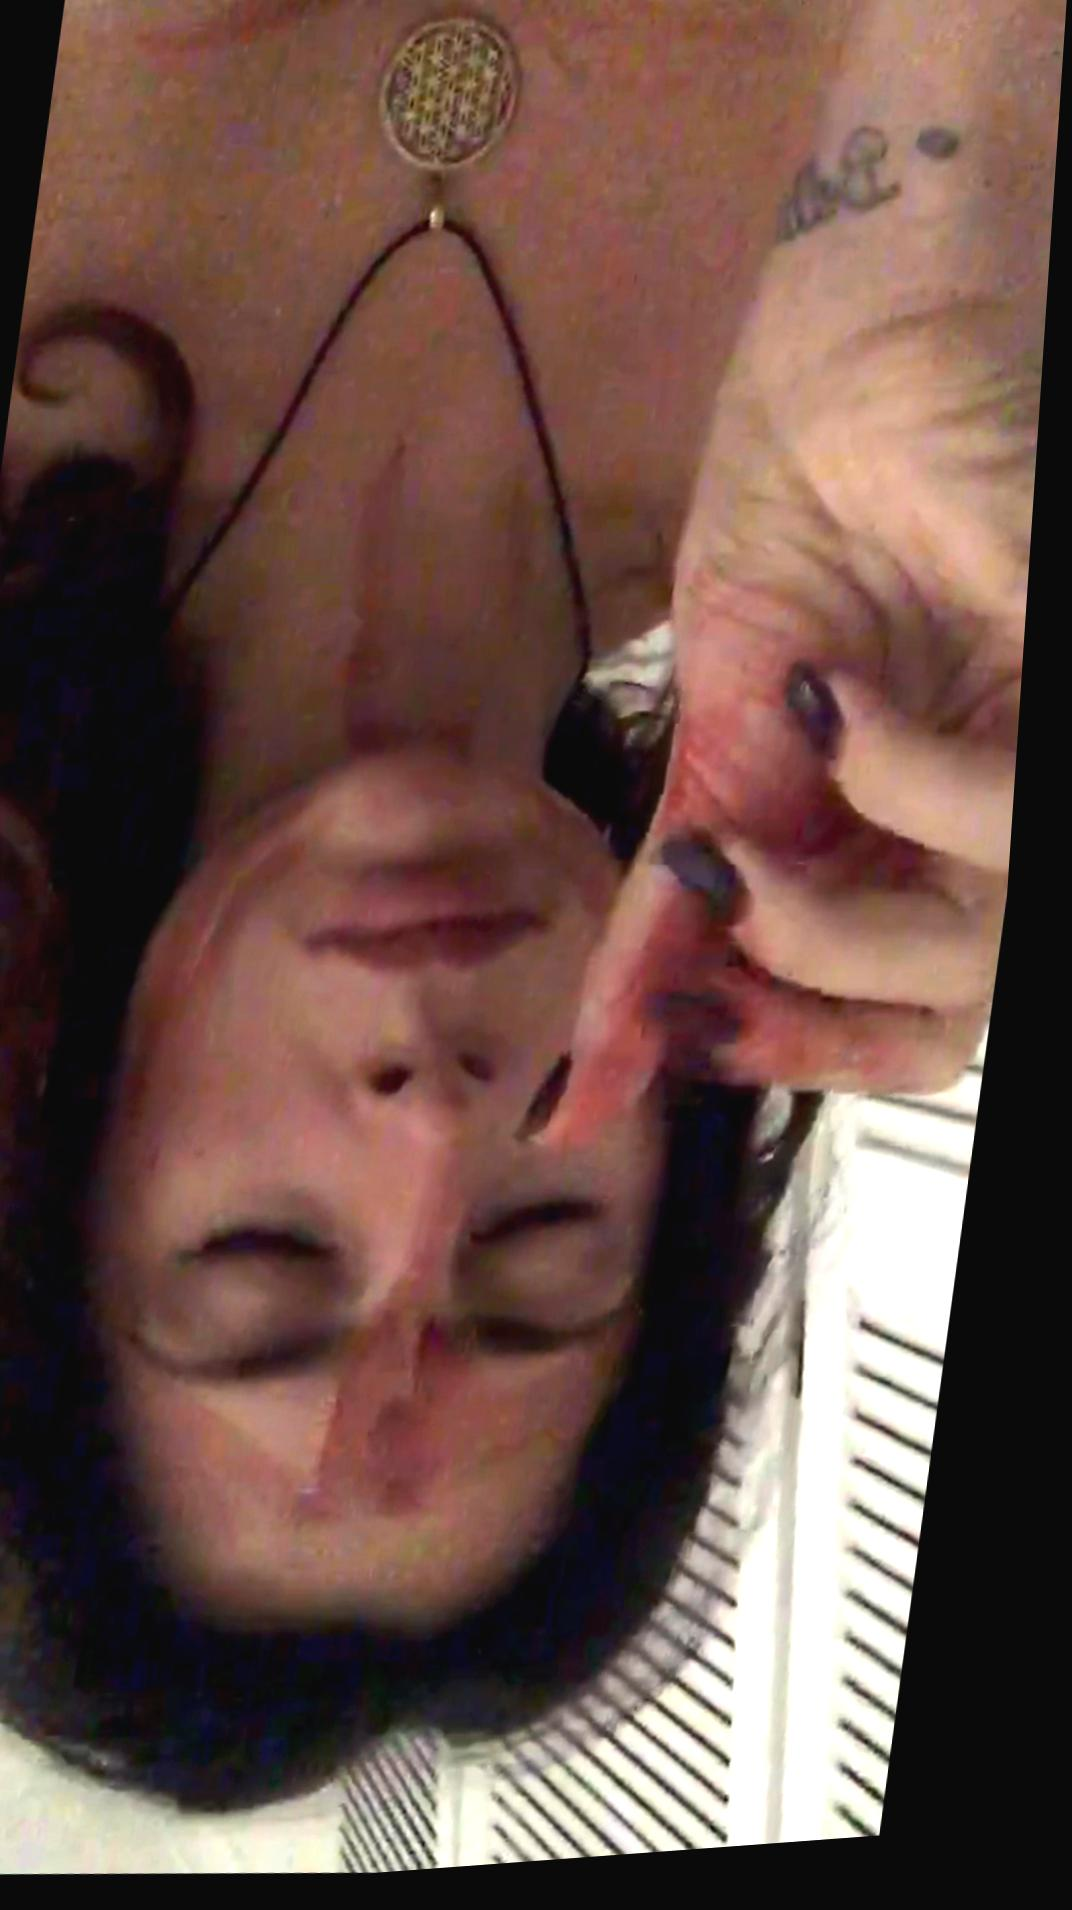Fire: (311, 1303, 660, 1572), (142, 0, 340, 51)
